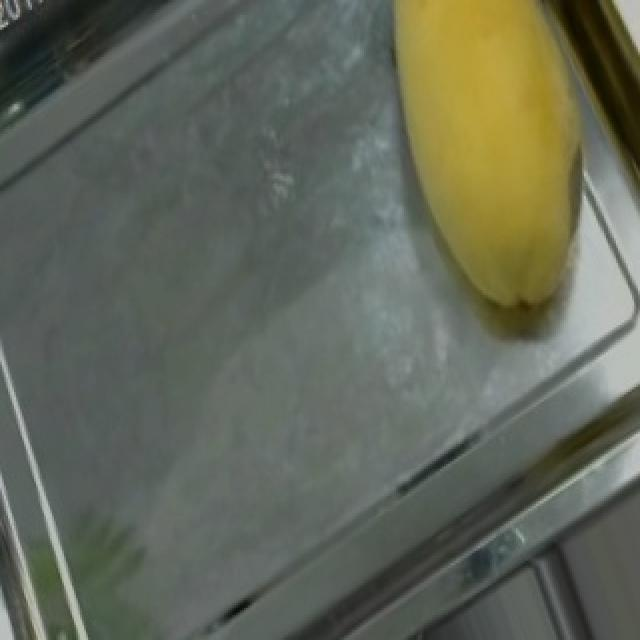fruit: (316, 0, 640, 327)
